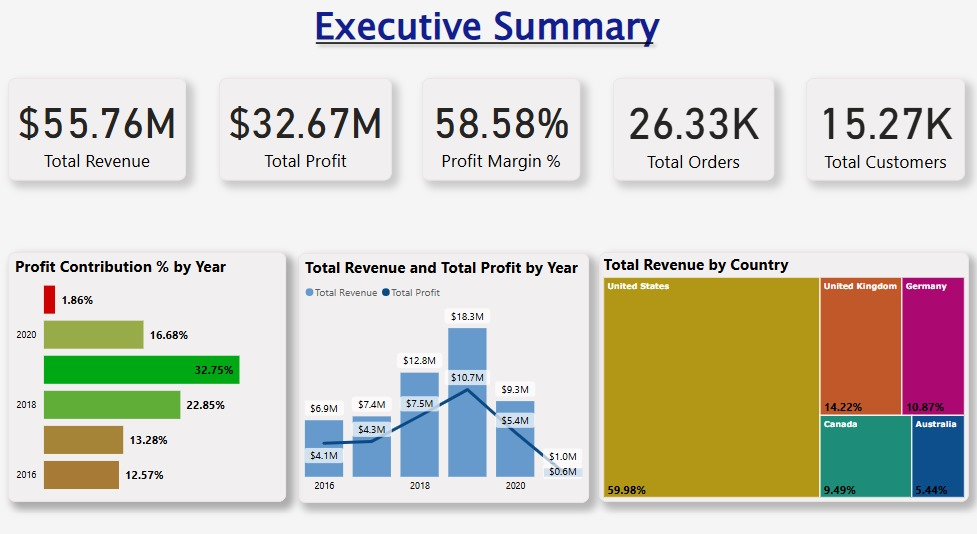

The dashboard page shown, as its layout file describes it:
{"tool":"powerbi","page":{"name":"Page 1","canvas":[1280,720],"ordinal":0},"visuals":[{"type":"textbox","box":[10.5,0,1253.1,97.3],"z":0},{"type":"card","fields":{"Values":["public customers.Total Revenue"]},"box":[10.5,108.7,233,133.5],"z":1000},{"type":"card","fields":{"Values":["public customers.Total Profit"]},"box":[286.7,108.7,226.5,133.5],"z":2000},{"type":"card","fields":{"Values":["public customers.Profit Margin %"]},"box":[552.4,108.7,206.8,133.5],"z":3000},{"type":"card","fields":{"Values":["Count(public sales.order_number)"]},"box":[802.5,108.7,210.8,133.5],"z":4000},{"type":"card","fields":{"Values":["Count(public customers.customer_key)"]},"box":[1055.1,108.7,208.1,133.5],"z":5000},{"type":"lineStackedColumnComboChart","fields":{"Category":["public sales.order_date.Variation.Date Hierarchy.Year","public sales.order_date.Variation.Date Hierarchy.Month"],"Y":["public customers.Total Revenue"],"Y2":["public customers.Total Profit"]},"box":[390.1,336.4,374.4,327.3],"z":6000},{"type":"treemap","title":"Total Revenue by Country","fields":{"Values":["public customers.Total Revenue"],"Group":["public customers.country"]},"box":[777.6,336.4,490.9,327.3],"z":7000},{"type":"shape","box":[404.2,0,459.6,125.8],"z":8000},{"type":"barChart","title":"Profit Contribution % by Year","fields":{"Y":["public customers.Profit Contribution % by Year"],"Category":["public sales.order_date.Variation.Date Hierarchy.Year"]},"box":[10.5,336.4,361.3,327.3],"z":9000}]}

Visuals, with their boxes in screenshot pixels (x1, y1, x2, y2), scaled from the page's 1280x720 canvas onto the 977x534 screenshot:
textbox: {"x1": 8, "y1": 0, "x2": 964, "y2": 72}
card - public customers.Total Revenue: {"x1": 8, "y1": 81, "x2": 186, "y2": 180}
card - public customers.Total Profit: {"x1": 219, "y1": 81, "x2": 392, "y2": 180}
card - public customers.Profit Margin %: {"x1": 422, "y1": 81, "x2": 579, "y2": 180}
card - Count(public sales.order_number): {"x1": 613, "y1": 81, "x2": 773, "y2": 180}
card - Count(public customers.customer_key): {"x1": 805, "y1": 81, "x2": 964, "y2": 180}
lineStackedColumnComboChart - public sales.order_date.Variation.Date Hierarchy.Year x public sales.order_date.Variation.Date Hierarchy.Month: {"x1": 298, "y1": 249, "x2": 584, "y2": 492}
"Total Revenue by Country" treemap: {"x1": 594, "y1": 249, "x2": 968, "y2": 492}
shape: {"x1": 309, "y1": 0, "x2": 659, "y2": 93}
"Profit Contribution % by Year" barChart: {"x1": 8, "y1": 249, "x2": 284, "y2": 492}
